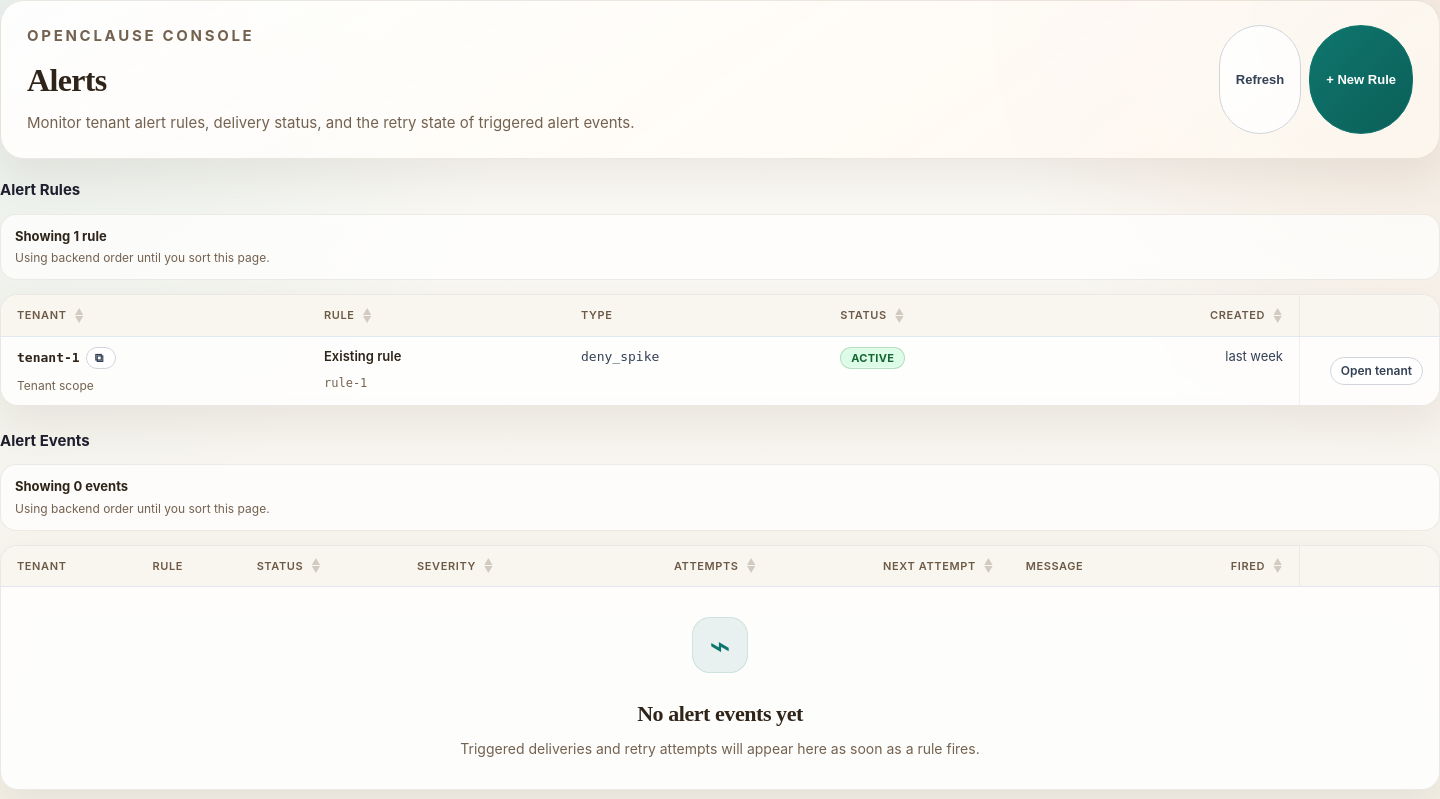
Test: Alerts page › creates alert rules with the expected payload and refreshes the rules table
Expected: the text "Existing rule" is shown, [324,348,401,364]
Click the button "+ New Rule" at (1361, 80), box [1309,25,1413,134]
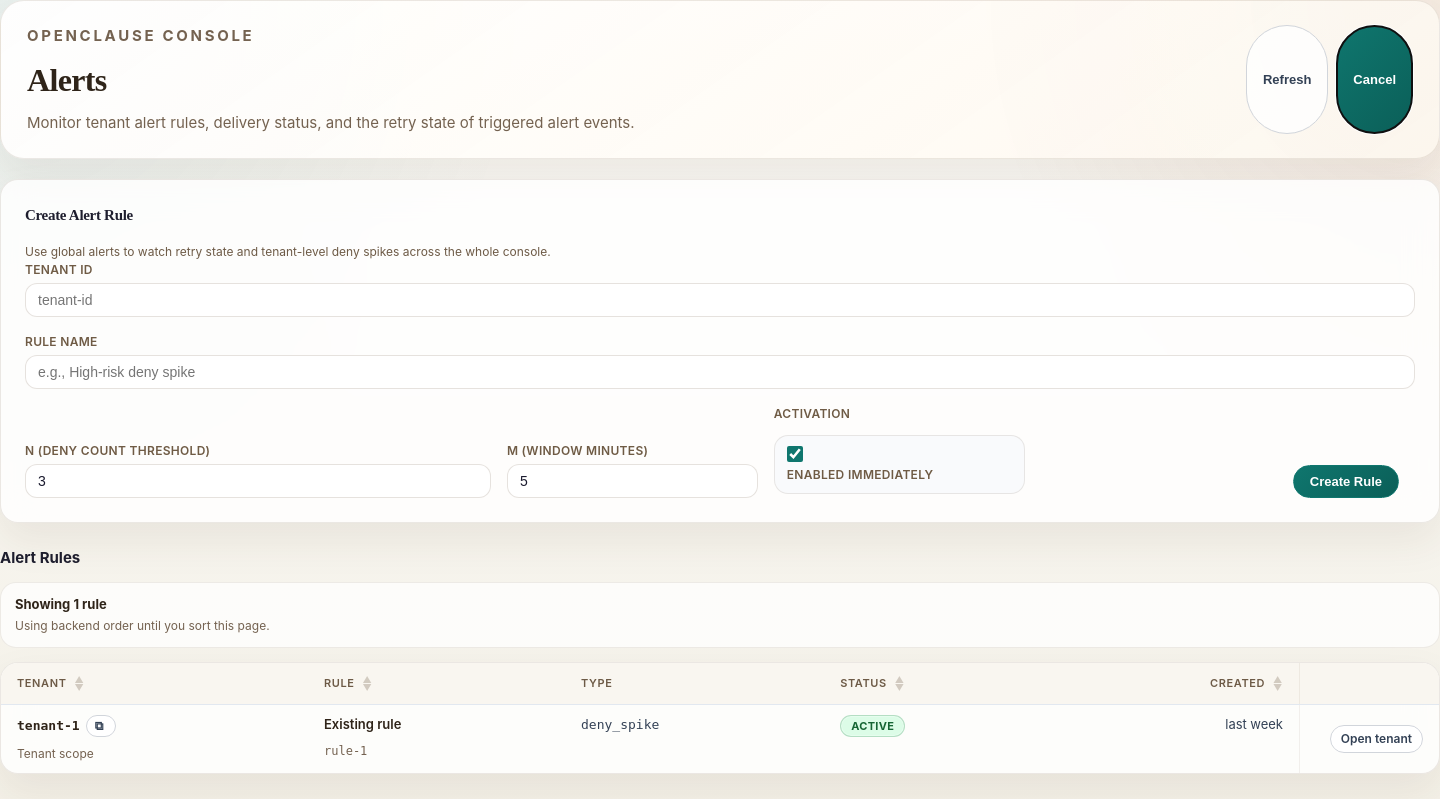
Now the element "Create Alert Rule" is shown, box [0,179,1439,523]
Type "tenant-42" into the field labelled "Tenant ID" at (720, 300), box [25,282,1415,316]
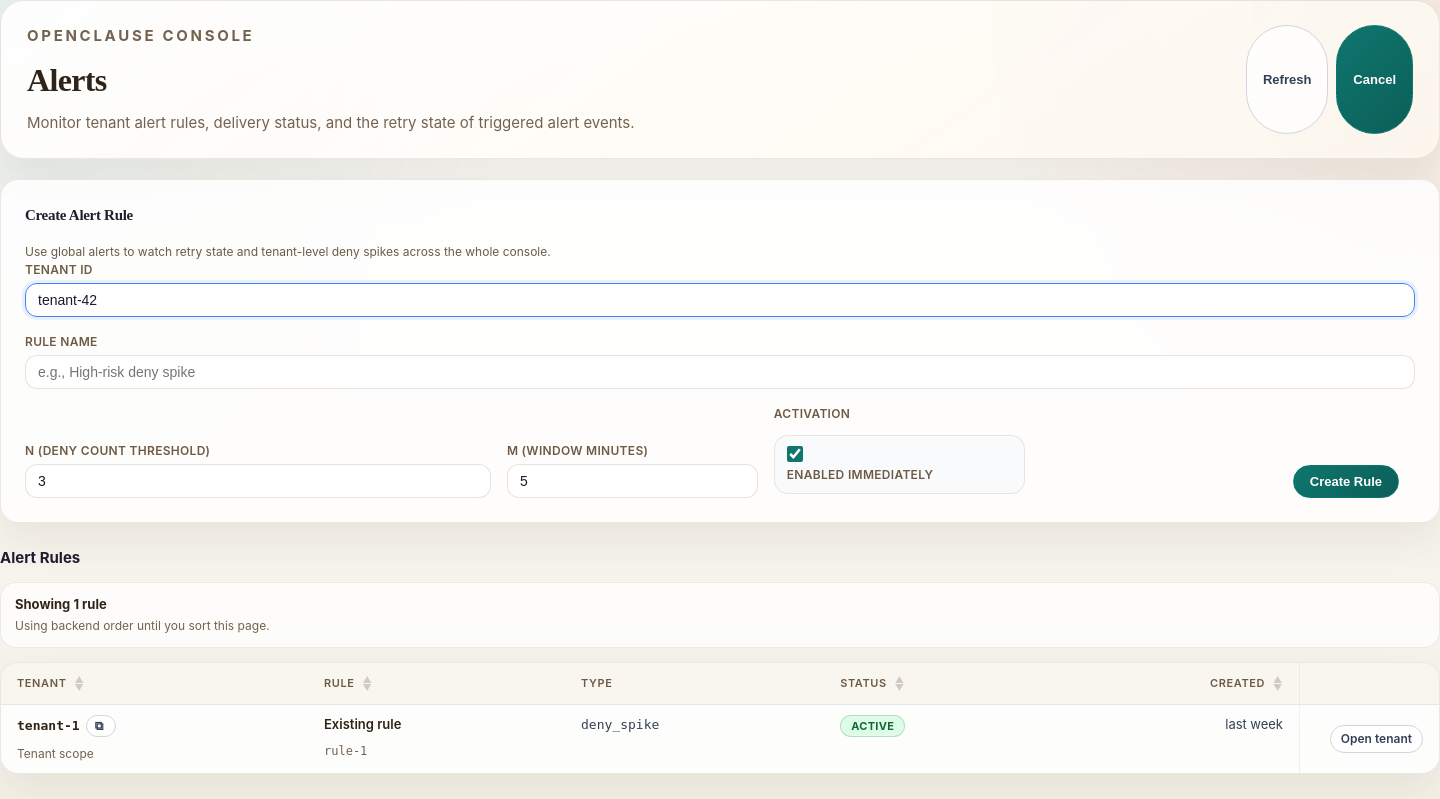
Type "Retry burst" into the field labelled "Rule Name" at (720, 372), box [25,354,1415,388]
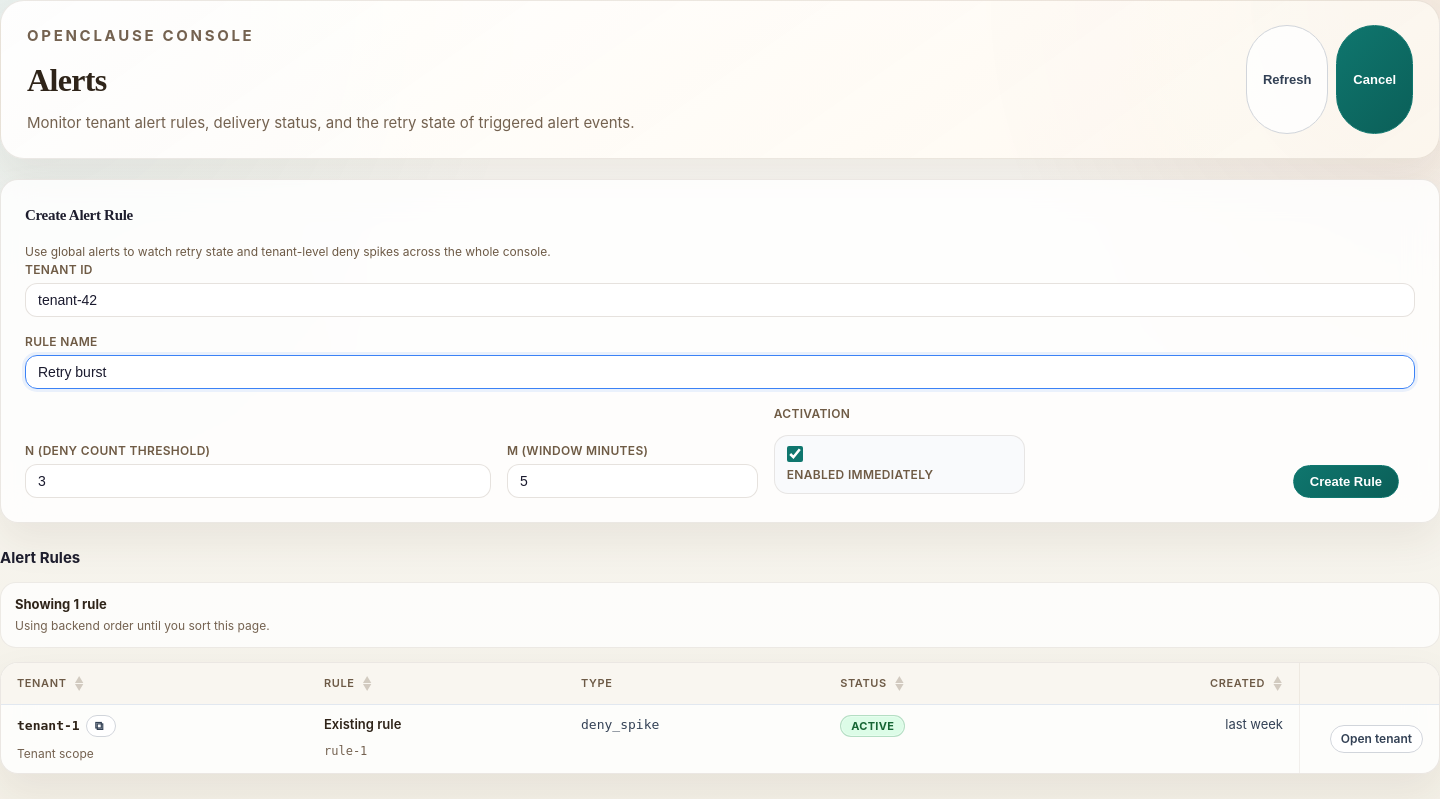
Replace the text in the number field labelled "N (deny count threshold)" with "7" at (258, 481), box [25,464,491,498]
Replace the text in the number field labelled "M (window minutes)" with "15" at (632, 481), box [507,464,758,498]
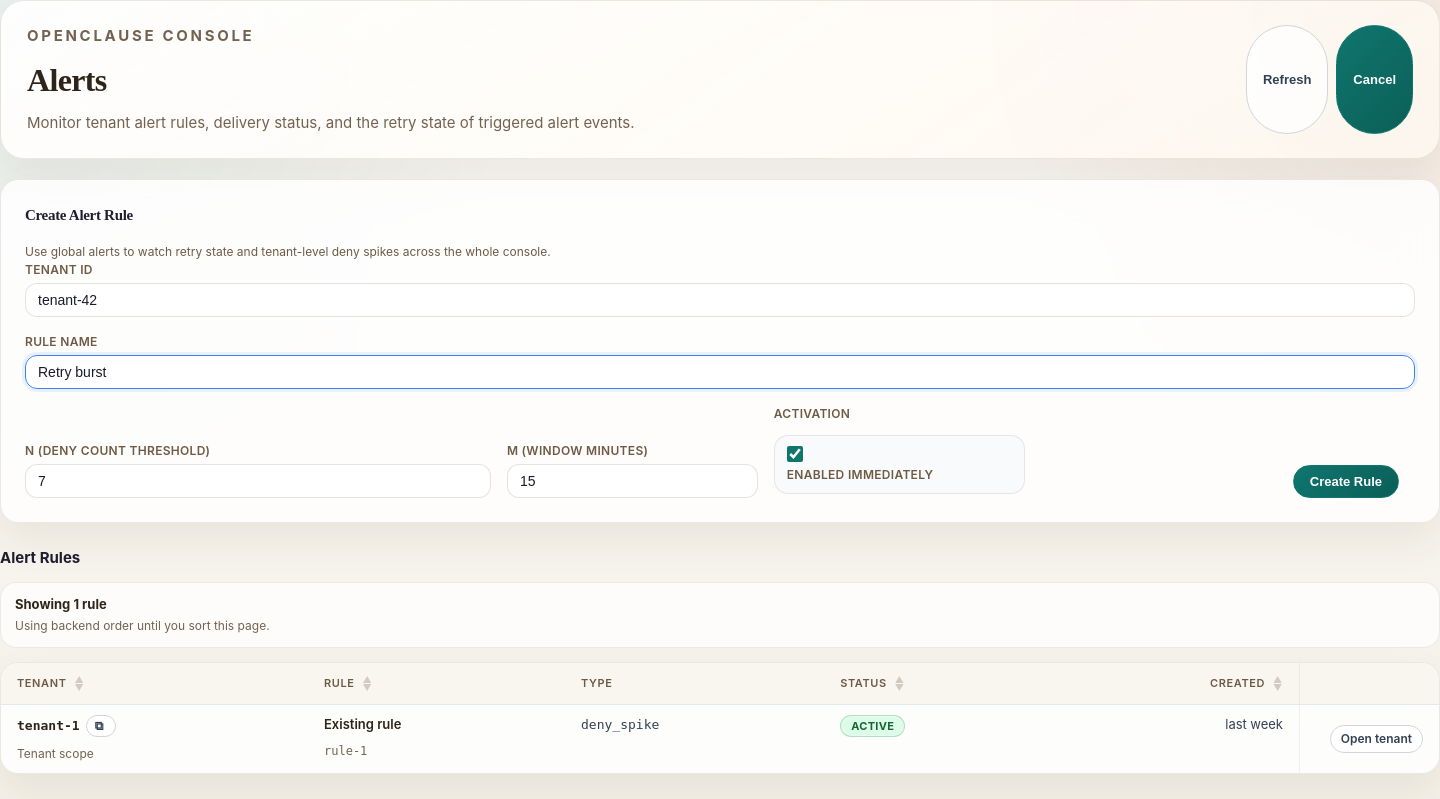
Click the checkbox labelled "Enabled immediately" at (795, 454), box [787,446,803,462]
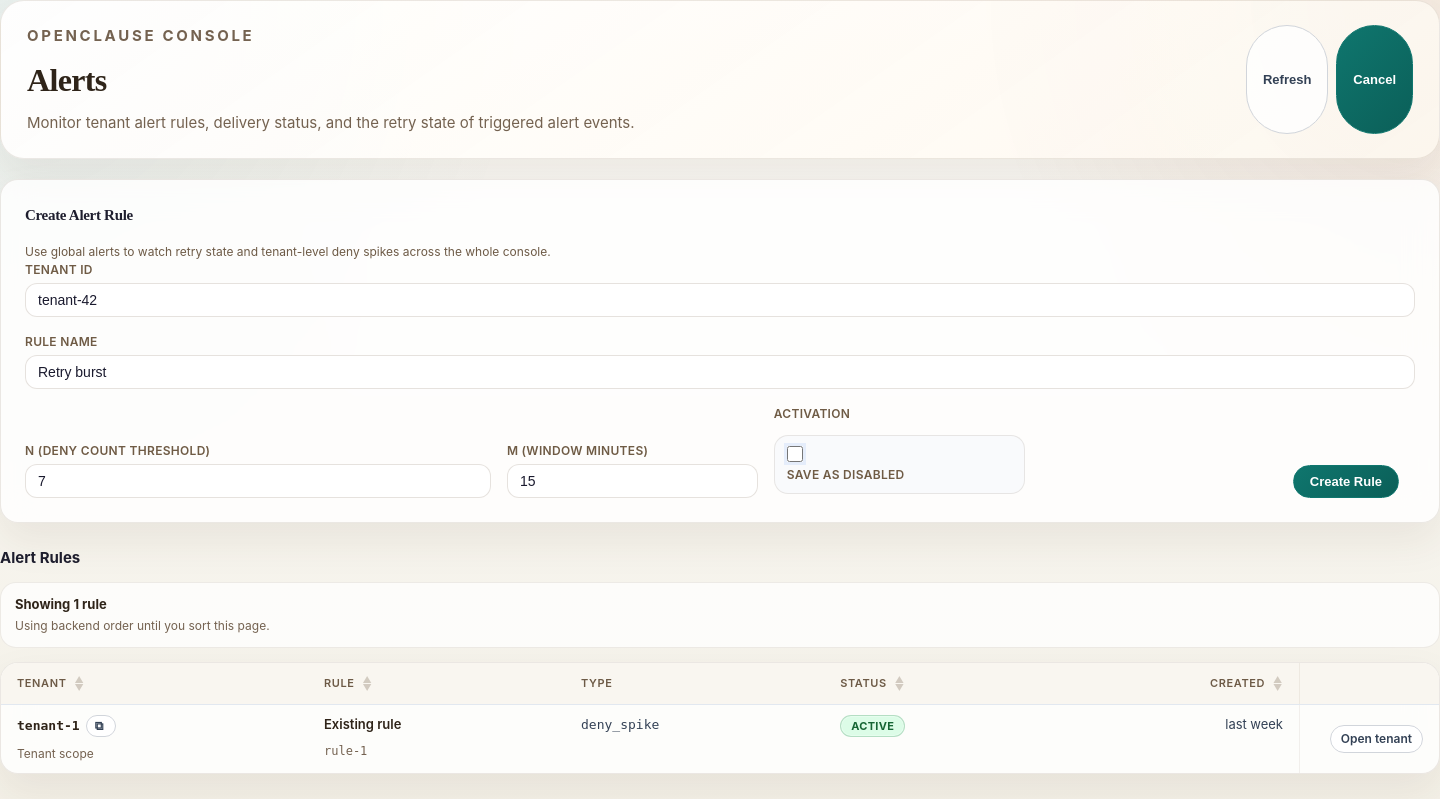
Click the button "Create Rule" at (1346, 482), box [1293,465,1399,498]
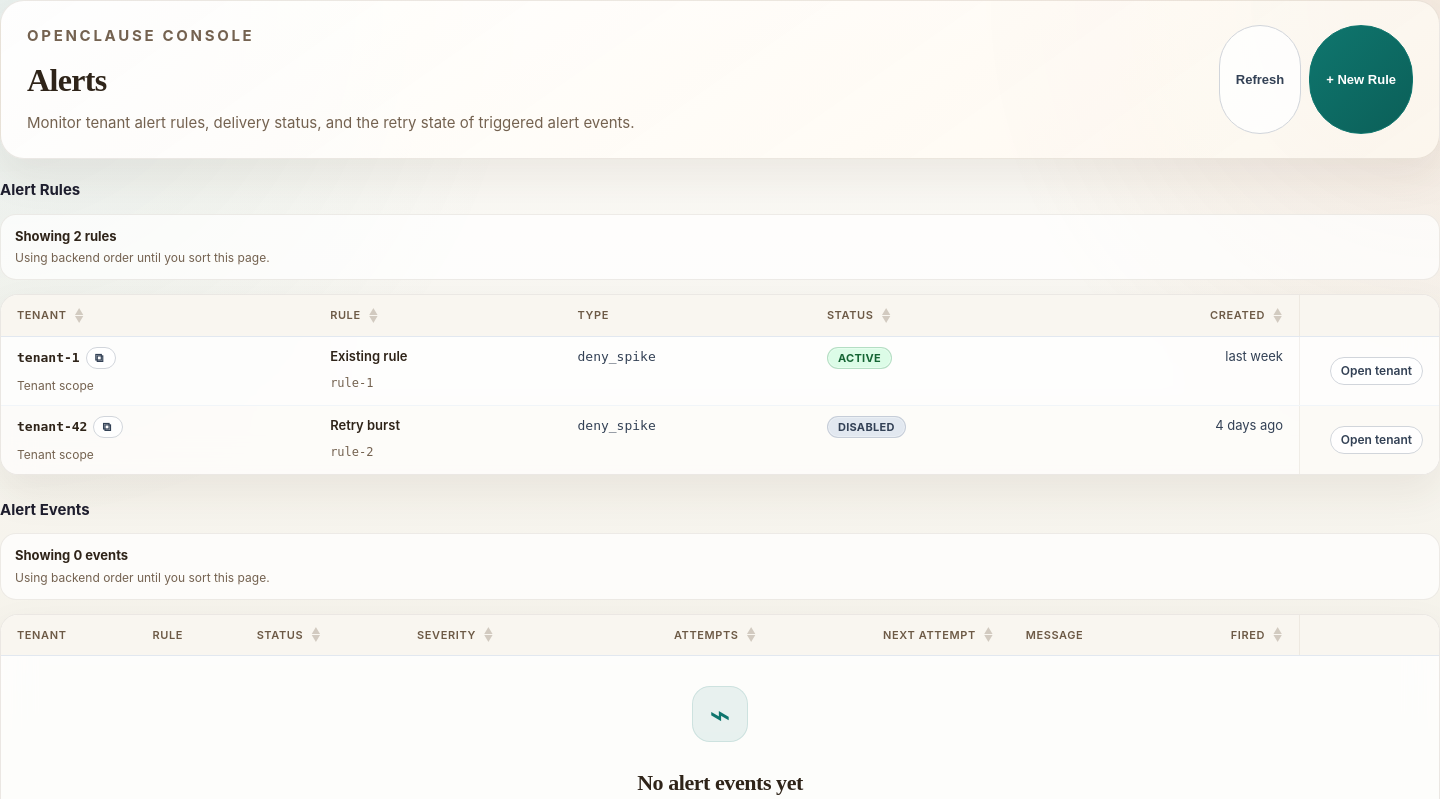
Now the text "Disabled" is shown, box [827,416,906,438]
Now the text "Retry burst" is shown, box [330,416,400,432]
